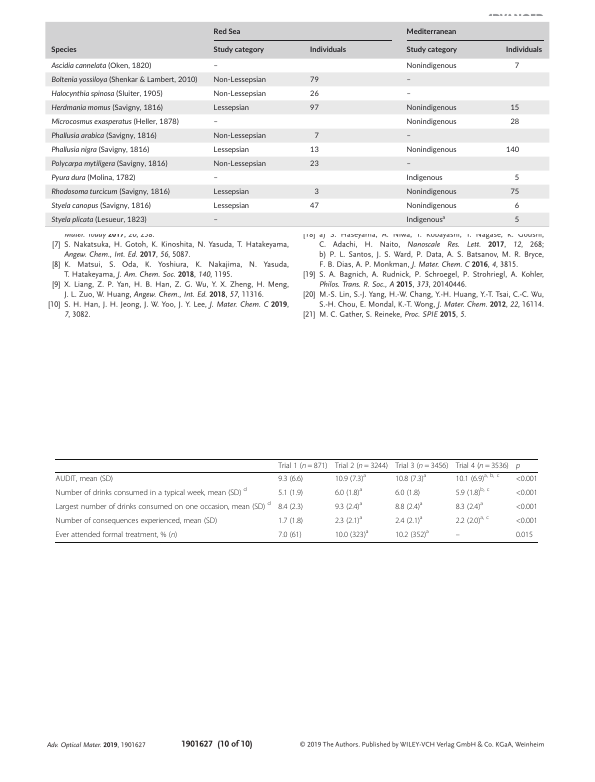borderless: (43, 21, 550, 228), (54, 457, 538, 542)
cell: (55, 500, 272, 512), (55, 486, 248, 498), (50, 74, 197, 86), (55, 516, 218, 526), (50, 116, 179, 128), (50, 186, 170, 198), (50, 158, 168, 170), (50, 88, 163, 100), (50, 102, 163, 114), (50, 130, 157, 142), (55, 530, 178, 540), (50, 60, 151, 72), (50, 200, 151, 212), (50, 144, 149, 156), (50, 214, 147, 226), (50, 172, 135, 184), (405, 25, 456, 38), (212, 74, 266, 86), (212, 88, 266, 100), (212, 130, 266, 142), (212, 158, 266, 170), (212, 44, 264, 56), (405, 44, 457, 56), (405, 60, 457, 72), (405, 102, 457, 114), (405, 116, 457, 128), (405, 144, 457, 156), (405, 186, 457, 198), (405, 200, 457, 212), (55, 474, 114, 484), (455, 472, 500, 484), (405, 213, 445, 226), (334, 461, 389, 470), (394, 461, 449, 470), (455, 461, 510, 470), (277, 461, 328, 470), (405, 172, 443, 184), (212, 102, 249, 114), (212, 144, 249, 156), (212, 186, 249, 198), (212, 200, 249, 212), (394, 528, 430, 540), (455, 486, 490, 498), (455, 514, 490, 526), (334, 528, 369, 540), (334, 472, 367, 484), (394, 472, 427, 484), (212, 25, 241, 38), (334, 486, 363, 498), (334, 500, 363, 512), (394, 500, 423, 512), (455, 500, 484, 512), (334, 514, 363, 526), (394, 514, 423, 526), (50, 44, 77, 56), (308, 46, 346, 54), (504, 46, 542, 54), (277, 474, 304, 484), (277, 488, 304, 498), (394, 488, 421, 498), (277, 502, 304, 512), (277, 516, 304, 526), (277, 530, 302, 540), (515, 474, 538, 484), (515, 488, 538, 498), (515, 502, 538, 512), (515, 516, 538, 526), (515, 530, 534, 540), (308, 74, 319, 86), (308, 88, 319, 100), (308, 102, 319, 114), (504, 147, 519, 154), (308, 147, 319, 154), (308, 161, 319, 168), (308, 203, 319, 210), (513, 200, 519, 212), (509, 105, 519, 112), (509, 119, 519, 126), (509, 189, 519, 196), (515, 463, 521, 470), (212, 63, 218, 70), (513, 63, 519, 70), (405, 77, 411, 84), (405, 91, 411, 98), (212, 119, 218, 126), (313, 133, 319, 140), (405, 133, 411, 140), (405, 161, 411, 168), (212, 175, 218, 182), (513, 175, 519, 182), (313, 189, 319, 196), (212, 217, 218, 224), (513, 217, 519, 224), (455, 534, 461, 538)
